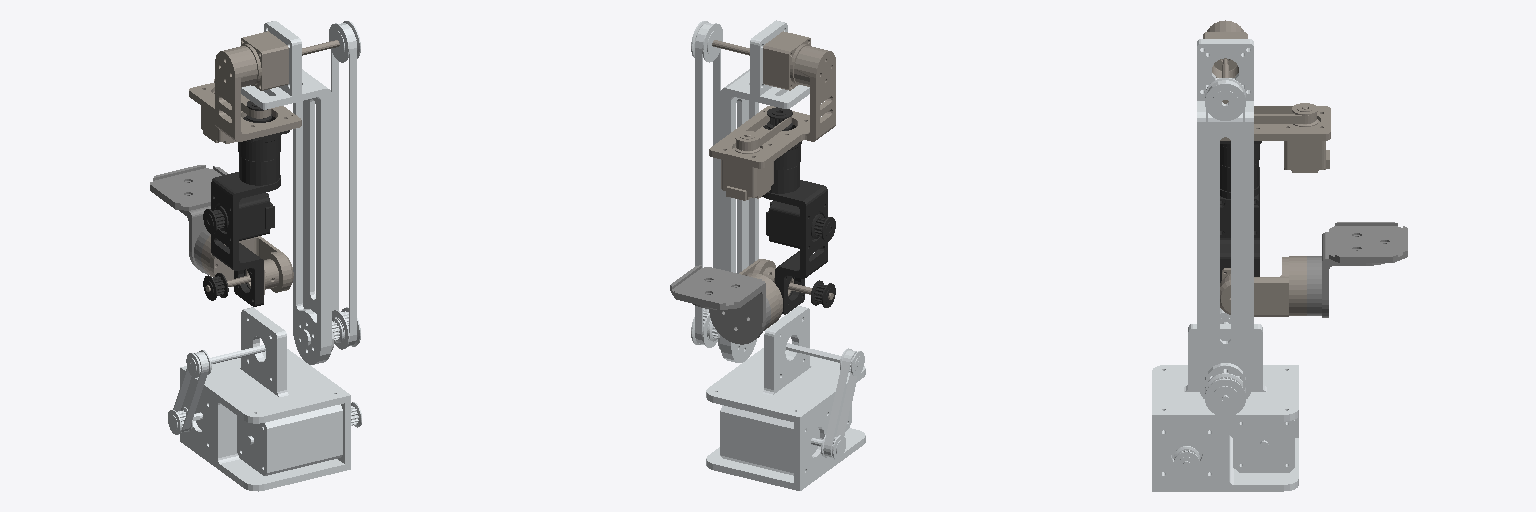
robot.urdf — FINES:
<?xml version="1.0" encoding="utf-8"?>
<!-- This URDF was automatically created by SolidWorks to URDF Exporter! Originally created by [author] ([email redacted])
     Commit Version: 1.6.0-4-g7f85cfe  Build Version: 1.6.7995.38578
     For more information, please see http://wiki.ros.org/sw_urdf_exporter -->
<robot
  name="FINES">
  <link
    name="base_link">
    <inertial>
      <origin
        xyz="-4.21833694720959E-05 0.146049150218996 0.0241608585089949"
        rpy="0 0 0" />
      <mass
        value="5.77687472400627" />
      <inertia
        ixx="0.0152845361511169"
        ixy="-7.5601871862517E-07"
        ixz="-8.66676045530567E-06"
        iyy="0.0262028955694257"
        iyz="-7.57937583549048E-06"
        izz="0.0196956473543524" />
    </inertial>
    <visual>
      <origin
        xyz="0 0 0"
        rpy="0 0 0" />
      <geometry>
        <mesh
          filename="package://fines_description/meshes/base_link.dae" />
      </geometry>
      <material
        name="">
        <color
          rgba="0.752941176470588 0.752941176470588 0.752941176470588 1" />
      </material>
    </visual>
    <collision>
      <origin
        xyz="0 0 0"
        rpy="0 0 0" />
      <geometry>
        <mesh
          filename="package://fines_description/meshes/base_link.dae" />
      </geometry>
    </collision>
  </link>

  <!-- Robot FootPrint -->
  <link name = "base_footprint"/>

  <joint name = "base_footprint_joint" type="fixed">
    <origin xyz="0 0 0" rpy="0 0 1.57"/>
    <parent link="base_link"/>
    <child link="base_footprint"/>
  </joint>

  <link
    name="link1">
    <inertial>
      <origin
        xyz="-0.00036378382184897 2.20746144273531E-05 0.0819997077639568"
        rpy="0 0 0" />
      <mass
        value="0.592857462743612" />
      <inertia
        ixx="0.000582400962928646"
        ixy="5.14301991899386E-05"
        ixz="2.5246019707827E-06"
        iyy="0.000603962707843331"
        iyz="1.69962981177444E-07"
        izz="0.000550745981942424" />
    </inertial>
    <visual>
      <origin
        xyz="0 0 0"
        rpy="0 0 0" />
      <geometry>
        <mesh
          filename="package://fines_description/meshes/link1.dae" />
      </geometry>
      <material
        name="">
        <color
          rgba="0.898039215686275 0.917647058823529 0.929411764705882 1" />
      </material>
    </visual>
    <collision>
      <origin
        xyz="0 0 0"
        rpy="0 0 0" />
      <geometry>
        <mesh
          filename="package://fines_description/meshes/link1.dae" />
      </geometry>
    </collision>
  </link>
  <joint
    name="joint1"
    type="revolute">
    <origin
      xyz="0 0.097 0.0884029999999963"
      rpy="0 0 0" />
    <parent
      link="base_link" />
    <child
      link="link1" />
    <axis
      xyz="0 0 1" />
    <limit
      lower="-3.14"
      upper="3.14"
      effort="100"
      velocity="1" />
  </joint>
  <link
    name="link2">
    <inertial>
      <origin
        xyz="2.85608333469578E-07 0.11295838317479 0.0336276667285427"
        rpy="0 0 0" />
      <mass
        value="0.196402077222647" />
      <inertia
        ixx="0.00127653505391681"
        ixy="5.41563303156552E-11"
        ixz="-7.75832456765897E-20"
        iyy="5.98529112676925E-05"
        iyz="0.000121493532578092"
        izz="0.00127569392513034" />
    </inertial>
    <visual>
      <origin
        xyz="0 0 0"
        rpy="0 0 0" />
      <geometry>
        <mesh
          filename="package://fines_description/meshes/link2.dae" />
      </geometry>
      <material
        name="">
        <color
          rgba="0.898039215686275 0.917647058823529 0.929411764705882 1" />
      </material>
    </visual>
    <collision>
      <origin
        xyz="0 0 0"
        rpy="0 0 0" />
      <geometry>
        <mesh
          filename="package://fines_description/meshes/link2.dae" />
      </geometry>
    </collision>
  </link>
  <joint
    name="joint2"
    type="revolute">
    <origin
      xyz="0 0 0.1327"
      rpy="1.5707963267949 0 1.5707963267949" />
    <parent
      link="link1" />
    <child
      link="link2" />
    <axis
      xyz="0 0 1" />
    <limit
      lower="-3.14"
      upper="3.14"
      effort="100"
      velocity="1" />
  </joint>
  <link
    name="link3">
    <inertial>
      <origin
        xyz="-0.0196841260569843 -0.0312078974956166 0.00911118417782346"
        rpy="0 0 0" />
      <mass
        value="0.123199816764308" />
      <inertia
        ixx="7.02688186868716E-05"
        ixy="-2.19820831000194E-05"
        ixz="-1.52469004336761E-05"
        iyy="7.15762026141492E-05"
        iyz="-1.75443790787875E-05"
        izz="9.26678542530137E-05" />
    </inertial>
    <visual>
      <origin
        xyz="0 0 0"
        rpy="0 0 0" />
      <geometry>
        <mesh
          filename="package://fines_description/meshes/link3.dae" />
      </geometry>
      <material
        name="">
        <color
          rgba="0.647058823529412 0.619607843137255 0.588235294117647 1" />
      </material>
    </visual>
    <collision>
      <origin
        xyz="0 0 0"
        rpy="0 0 0" />
      <geometry>
        <mesh
          filename="package://fines_description/meshes/link3.dae" />
      </geometry>
    </collision>
  </link>
  <joint
    name="joint3"
    type="revolute">
    <origin
      xyz="0 0.219999999999999 0"
      rpy="-3.14159265358979 0 3.14159265358979" />
    <parent
      link="link2" />
    <child
      link="link3" />
    <axis
      xyz="0 0 1" />
    <limit
      lower="-3.14"
      upper="3.14"
      effort="100"
      velocity="1" />
  </joint>
  <link
    name="link4">
    <inertial>
      <origin
        xyz="3.38467754222166E-05 0.00976476421187765 0.109684590612533"
        rpy="0 0 0" />
      <mass
        value="0.1229499827688" />
      <inertia
        ixx="0.000112511477915889"
        ixy="6.25146164730519E-10"
        ixz="1.20557809985063E-08"
        iyy="0.000105635002401183"
        iyz="-1.35902656409487E-05"
        izz="2.38723203474712E-05" />
    </inertial>
    <visual>
      <origin
        xyz="0 0 0"
        rpy="0 0 0" />
      <geometry>
        <mesh
          filename="package://fines_description/meshes/link4.dae" />
      </geometry>
      <material
        name="">
        <color
          rgba="0.250980392156863 0.250980392156863 0.250980392156863 1" />
      </material>
    </visual>
    <collision>
      <origin
        xyz="0 0 0"
        rpy="0 0 0" />
      <geometry>
        <mesh
          filename="package://fines_description/meshes/link4.dae" />
      </geometry>
    </collision>
  </link>
  <joint
    name="joint4"
    type="revolute">
    <origin
      xyz="-0.00849999999999868 0 0"
      rpy="1.5707963267949 0 0" />
    <parent
      link="link3" />
    <child
      link="link4" />
    <axis
      xyz="0 0 -1" />
    <limit
      lower="-3.14"
      upper="3.14"
      effort="100"
      velocity="1" />
  </joint>
  <link
    name="link5">
    <inertial>
      <origin
        xyz="-1.35187266964154E-06 -0.0216483157095903 0.0068305085887727"
        rpy="0 0 0" />
      <mass
        value="0.0577217440214143" />
      <inertia
        ixx="1.61881137845433E-05"
        ixy="9.39048360161047E-10"
        ixz="-9.69515000806971E-11"
        iyy="1.07522604591633E-05"
        iyz="-3.65361260158631E-06"
        izz="1.47715315918515E-05" />
    </inertial>
    <visual>
      <origin
        xyz="0 0 0"
        rpy="0 0 0" />
      <geometry>
        <mesh
          filename="package://fines_description/meshes/link5.dae" />
      </geometry>
      <material
        name="">
        <color
          rgba="0.647058823529412 0.619607843137255 0.588235294117647 1" />
      </material>
    </visual>
    <collision>
      <origin
        xyz="0 0 0"
        rpy="0 0 0" />
      <geometry>
        <mesh
          filename="package://fines_description/meshes/link5.dae" />
      </geometry>
    </collision>
  </link>
  <joint
    name="joint5"
    type="revolute">
    <origin
      xyz="0 0 0.1685"
      rpy="1.5707963267949 1.5707963267949 0" />
    <parent
      link="link4" />
    <child
      link="link5" />
    <axis
      xyz="0 0 1" />
    <limit
      lower="-3.14"
      upper="3.14"
      effort="100"
      velocity="1" />
  </joint>
  <link
    name="link6">
    <inertial>
      <origin
        xyz="0.0153065493766539 7.28303064134652E-17 0.0690675338750898"
        rpy="0 0 0" />
      <mass
        value="0.0387613813997493" />
      <inertia
        ixx="1.20554142515804E-05"
        ixy="-1.95482201282678E-21"
        ixz="-1.78379691041207E-06"
        iyy="1.03167157196273E-05"
        iyz="-1.14724531757392E-20"
        izz="1.08086108232853E-05" />
    </inertial>
    <visual>
      <origin
        xyz="0 0 0"
        rpy="0 0 0" />
      <geometry>
        <mesh
          filename="package://fines_description/meshes/link6.dae" />
      </geometry>
      <material
        name="">
        <color
          rgba="0.6 0.6 0.6 1" />
      </material>
    </visual>
    <collision>
      <origin
        xyz="0 0 0"
        rpy="0 0 0" />
      <geometry>
        <mesh
          filename="package://fines_description/meshes/link6.dae" />
      </geometry>
    </collision>
  </link>
  <joint
    name="joint6"
    type="revolute">
    <origin
      xyz="0 0 0"
      rpy="1.5707963267949 0 0" />
    <parent
      link="link5" />
    <child
      link="link6" />
    <axis
      xyz="0 0 -1" />
    <limit
      lower="-3.14"
      upper="3.14"
      effort="100"
      velocity="1" />
  </joint>
  <link
    name="base_lidar">
    <inertial>
      <origin
        xyz="0.00320068910952939 -0.0392975196656463 0.0143032860491149"
        rpy="0 0 0" />
      <mass
        value="0.156854810446873" />
      <inertia
        ixx="5.56780885323194E-05"
        ixy="-9.1867880366134E-07"
        ixz="2.94761243693032E-06"
        iyy="8.84830902998659E-05"
        iyz="-8.07445554879465E-06"
        izz="6.77136499266229E-05" />
    </inertial>
    <visual>
      <origin
        xyz="0 0 0"
        rpy="0 0 0" />
      <material
        name="">
        <color
          rgba="0.752941176470588 0.752941176470588 0.752941176470588 1" />
      </material>
    </visual>
    <collision>
      <origin
        xyz="0 0 0"
        rpy="0 0 0" />
    </collision>
  </link>
  <joint
    name="lidar_joint"
    type="fixed">
    <origin
      xyz="-0.0829998544383264 0 0.31"
      rpy="0 0 0" />
    <parent
      link="base_link" />
    <child
      link="base_lidar" />
    <axis
      xyz="0 0 0" />
  </joint>
  <link
    name="base_camera">
    <inertial>
      <origin
        xyz="-1.10106300625079E-05 -0.00230688572428656 -0.0569688085272049"
        rpy="0 0 0" />
      <mass
        value="0.18531218943756" />
      <inertia
        ixx="9.34395062248305E-05"
        ixy="-3.99836592644056E-09"
        ixz="-6.71923528481594E-10"
        iyy="0.000100793853318184"
        iyz="2.2053432576409E-07"
        izz="6.08595855266519E-05" />
    </inertial>
    <visual>
      <origin
        xyz="0 0 0"
        rpy="0 0 0" />
      <material
        name="">
        <color
          rgba="0.752941176470588 0.752941176470588 0.752941176470588 1" />
      </material>
    </visual>
    <collision>
      <origin
        xyz="0 0 0"
        rpy="0 0 0" />
    </collision>
  </link>
  <joint
    name="camera_joint"
    type="fixed">
    <origin
      xyz="0.0984999999999999 0.0607961400335611 0.285444077296145"
      rpy="-2.1816615649929 0 0" />
    <parent
      link="base_link" />
    <child
      link="base_camera" />
    <axis
      xyz="0 0 0" />
  </joint>
</robot>

--- Facts derived from the render (not from the file) ---
Views: 3 orthographic renders of the robot side by side, from view 1: azimuth 30°, elevation 25°; view 2: azimuth 150°, elevation 25°; view 3: azimuth 270°, elevation 25°.
Model FINES with 10 links and 9 joints (6 revolute, 3 fixed), rooted at base_link, posed every joint at zero.
Links seen in each view (by area): view 1: link1, link2, link4, link3, link6, link5; view 2: link1, link2, link3, link4, link6, link5; view 3: link2, link1, link3, link6, link5, link4.
Boxes of the visible links, <box> form: link1: <box>168,307,361,491</box>; link2: <box>241,21,360,364</box>; link4: <box>203,101,289,306</box>; link3: <box>189,31,339,143</box>; link6: <box>150,165,227,274</box>; link5: <box>201,235,293,294</box>; link1: <box>706,306,865,490</box>; link2: <box>691,20,809,362</box>; link3: <box>709,31,835,200</box>; link4: <box>762,107,835,314</box>; link6: <box>670,265,770,344</box>; link5: <box>739,259,833,330</box>; link2: <box>1197,39,1253,416</box>; link1: <box>1152,308,1298,491</box>; link3: <box>1203,20,1330,172</box>; link6: <box>1307,222,1407,317</box>; link5: <box>1220,256,1306,316</box>; link4: <box>1220,141,1261,282</box>.
Bounding box of the posed robot: 0.13 × 0.1725 × 0.3277 m (x, y, z).
Meshes: 7 distinct files referenced, 6 mesh visuals loaded (6 Collada DAE); not drawn: 1 (reference not matched to a file when rendering).